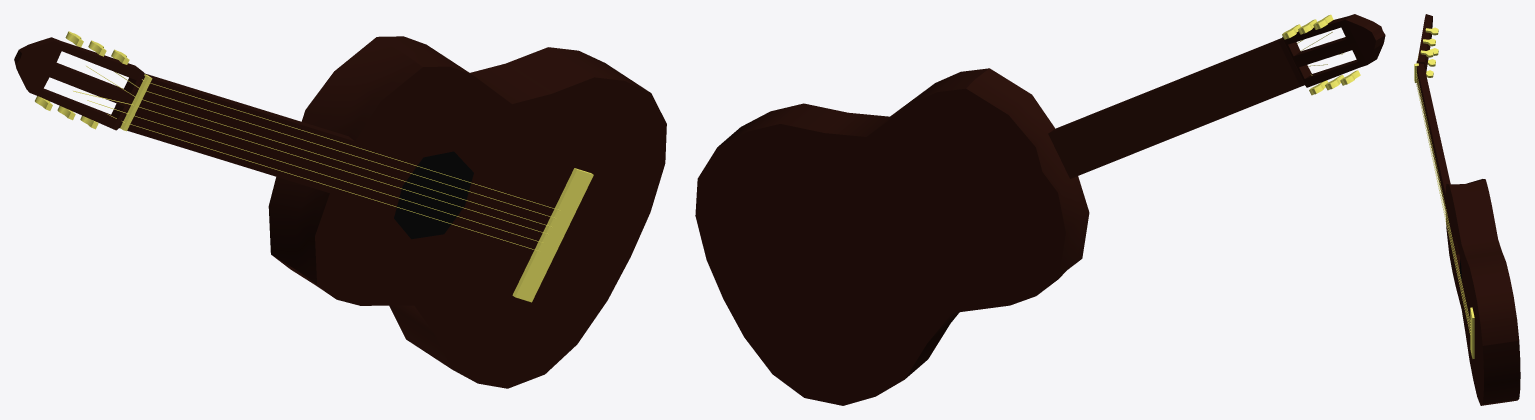
The model's file is guitare.FBX.
3 views of the same model, side by side, from view 1: azimuth 30°, elevation 25°; view 2: azimuth 150°, elevation 25°; view 3: azimuth 270°, elevation 25° (orthographic). The views are drawn at different scales.
Visible parts, largest first — view 1: guitare, fond_guitare, cordes, barrette_bas; view 2: guitare; view 3: guitare, cordes, barrette_bas.
Boxes of the visible parts, left/top/right/bottom form: guitare: left=14, top=36, right=666, bottom=388; fond_guitare: left=394, top=151, right=473, bottom=239; cordes: left=73, top=66, right=560, bottom=251; barrette_bas: left=512, top=168, right=593, bottom=302; guitare: left=695, top=14, right=1385, bottom=405; guitare: left=1416, top=14, right=1520, bottom=405; cordes: left=1416, top=53, right=1470, bottom=334; barrette_bas: left=1470, top=307, right=1474, bottom=358.
Size of the model in its own units: 72.55 by 50.12 by 18.92.
